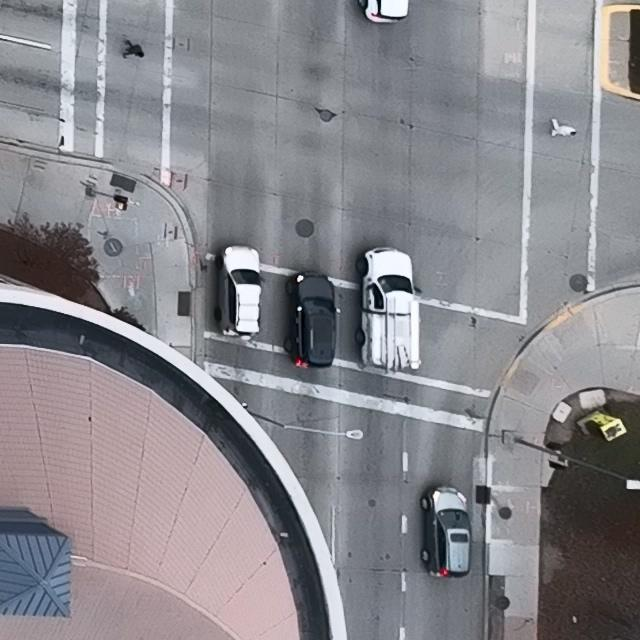car: (354, 246, 421, 370), (285, 271, 340, 368), (421, 485, 474, 579), (216, 245, 264, 337), (358, 0, 409, 22)
